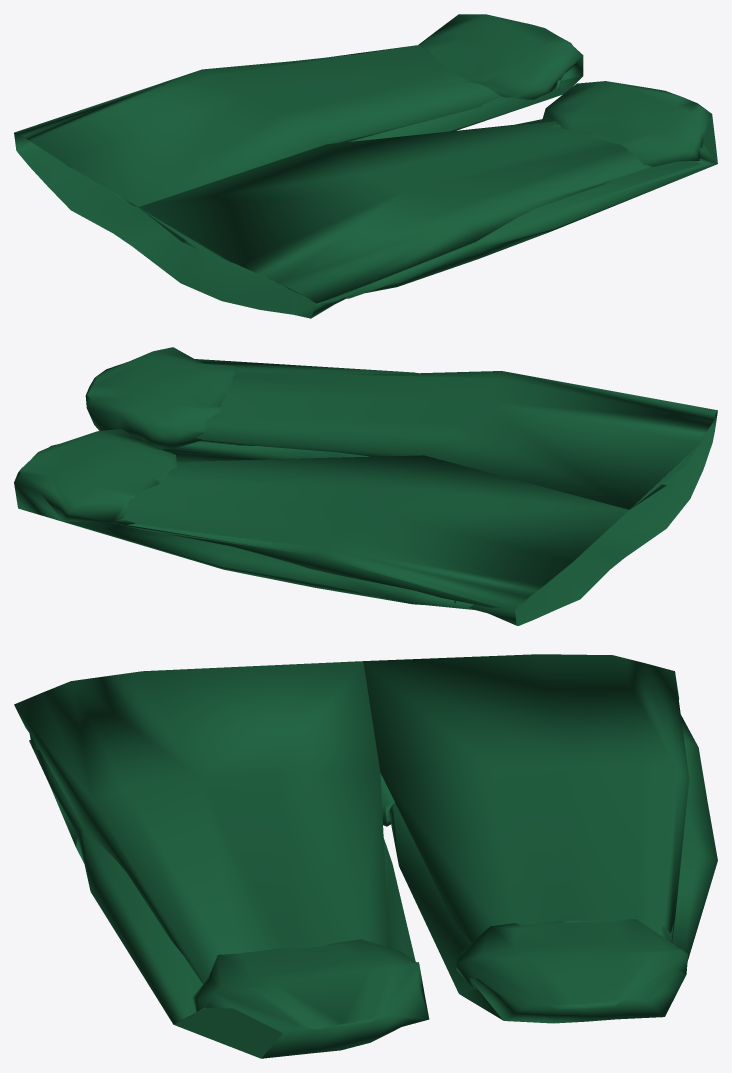
The model's file is slosht2.fbx.
3 renders of one model, top to bottom at view 1: azimuth 30°, elevation 25°; view 2: azimuth 150°, elevation 25°; view 3: azimuth 270°, elevation 25°, orthographic. The views are drawn at different scales.
Parts seen in each view (by area): view 1: Object_9.003; view 2: Object_9.003; view 3: Object_9.003.
Boxes of the visible parts, bbox=[...] form: Object_9.003: bbox=[14, 14, 717, 318]; Object_9.003: bbox=[14, 347, 717, 625]; Object_9.003: bbox=[14, 654, 717, 1058].
Size of the model in its own units: 95.92 by 9.79 by 79.87.
